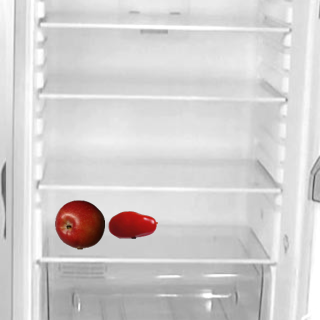Apple Braeburn: (54, 199, 104, 249)
Tomato 2: (107, 199, 157, 249)
